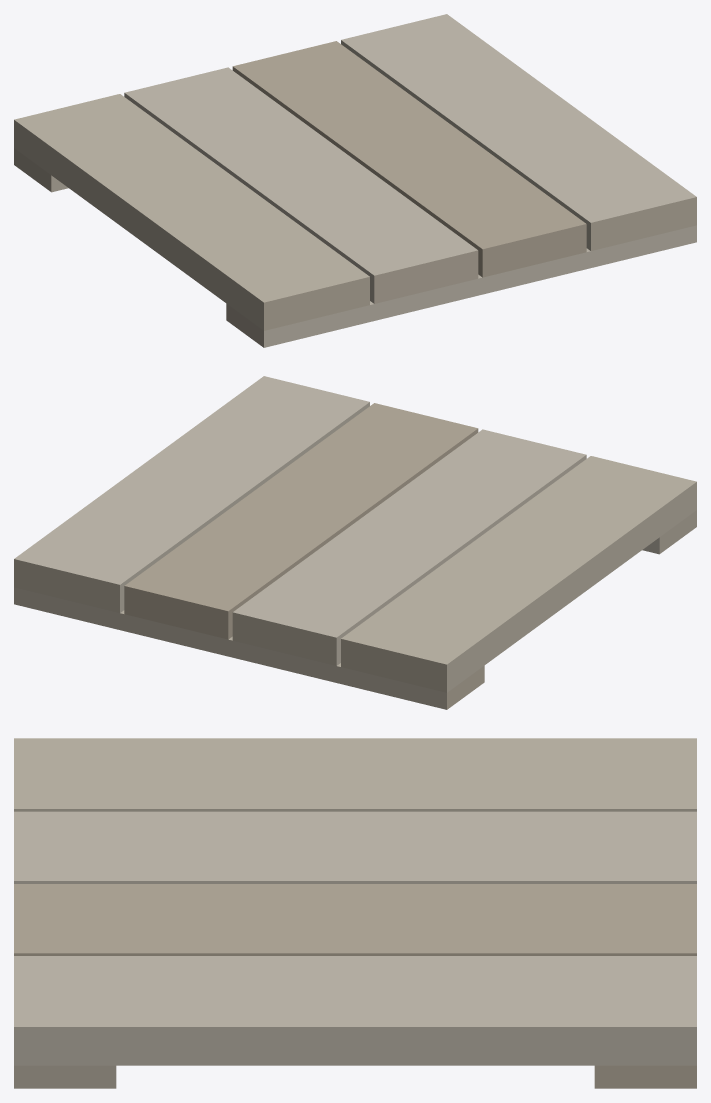
File: Floor4.glb
3 renders of one model, top to bottom at view 1: azimuth 30°, elevation 25°; view 2: azimuth 150°, elevation 25°; view 3: azimuth 270°, elevation 25°, orthographic. The views are drawn at different scales.
Visible parts, largest first — view 1: Wood; view 2: Wood; view 3: Wood.
Part boxes in pixels (bbox=[...]): Wood: bbox=[14, 14, 696, 347]; Wood: bbox=[14, 376, 696, 709]; Wood: bbox=[14, 738, 696, 1088].
Size of what is drawn, in the model's own units: 4 by 0.4 by 4.
